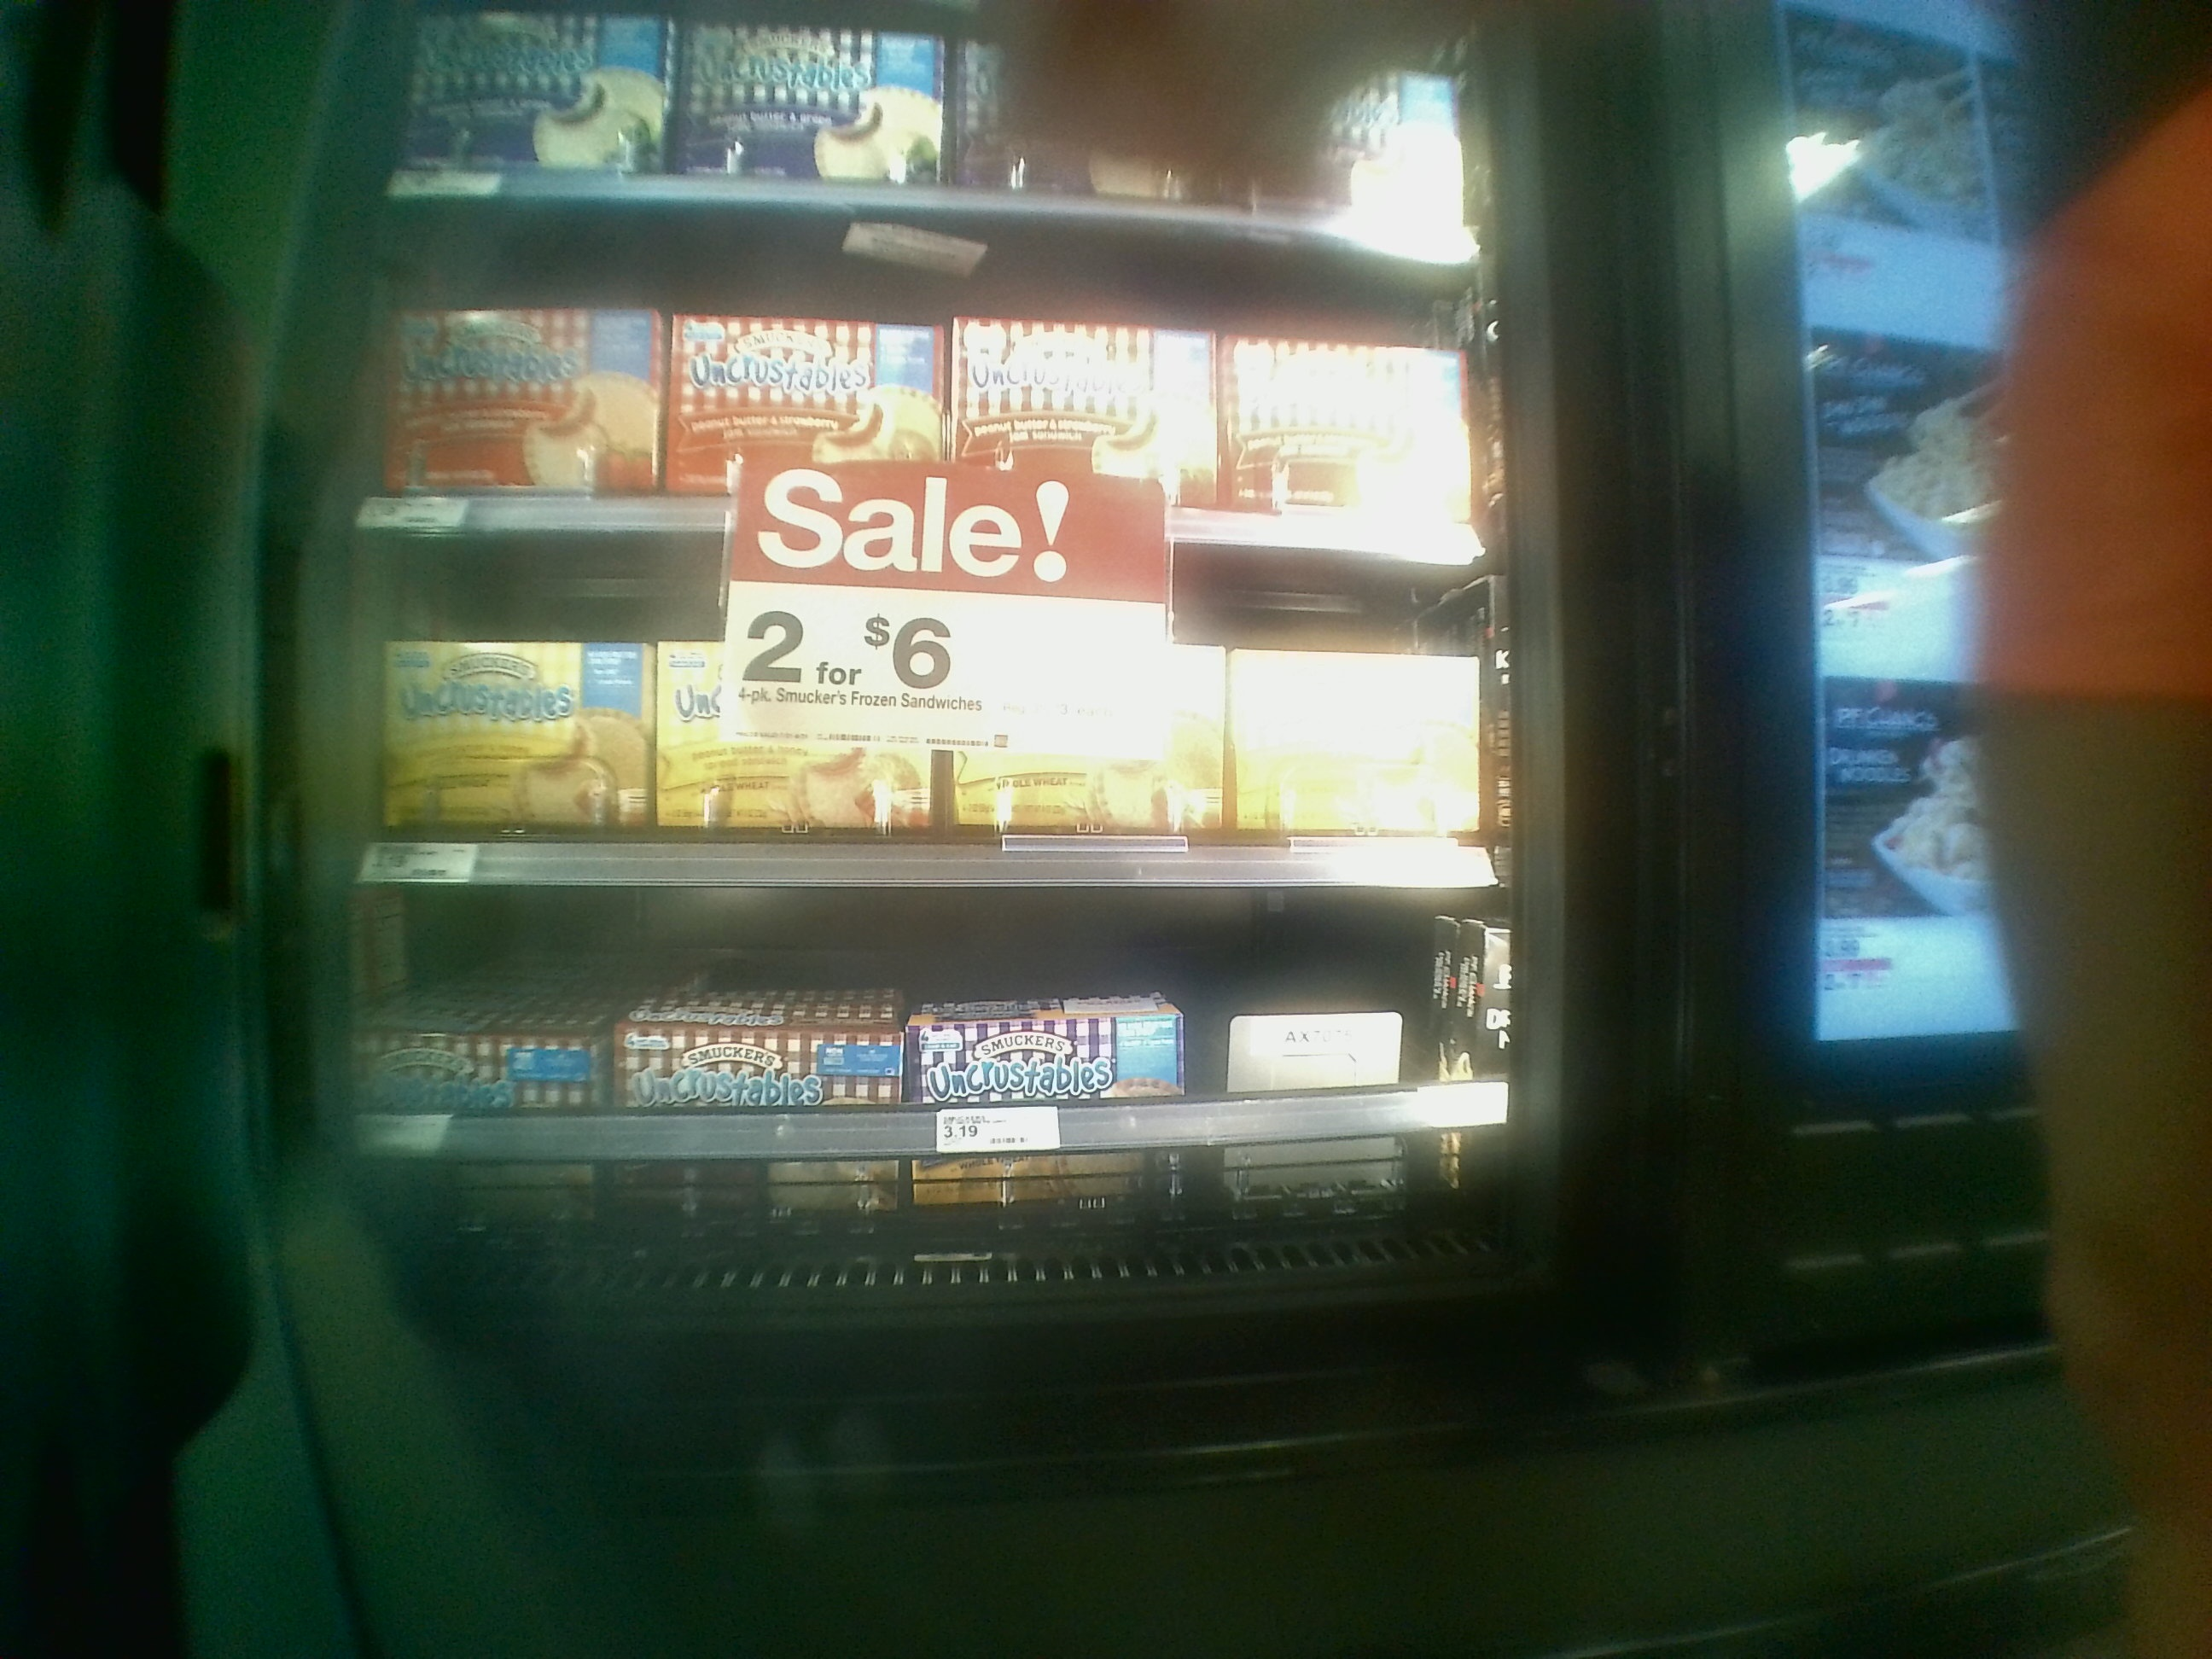shelf: (308, 873, 1522, 1274), (327, 193, 1498, 577), (315, 549, 1501, 875)
